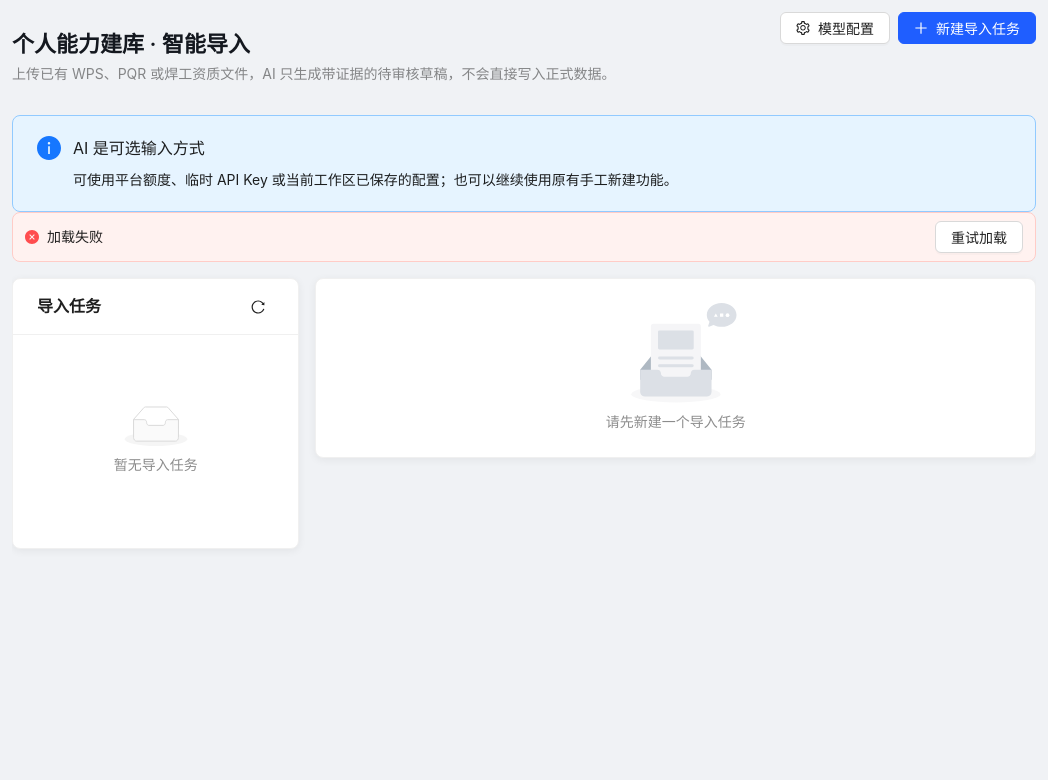
Test case: smart import business interactions › shows a load error and retries instead of presenting failure as empty success
Click the button "重试加载".
click(979, 237)  # box left=935, top=221, right=1023, bottom=253
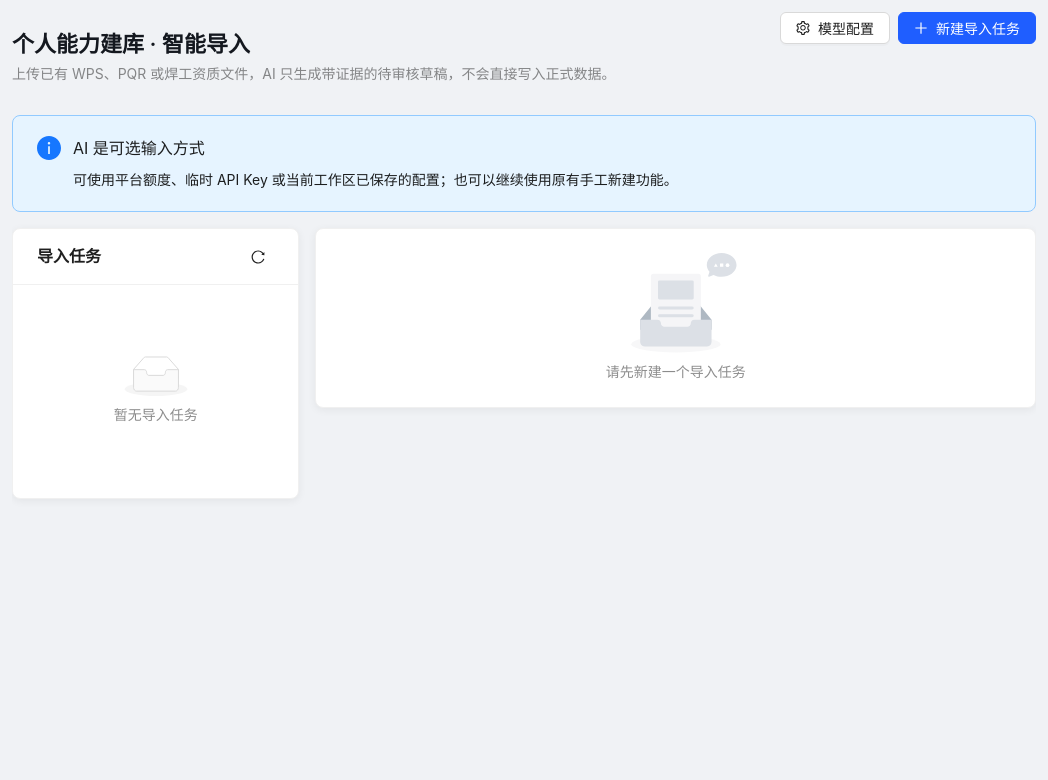
Now the button "重试加载" is gone
